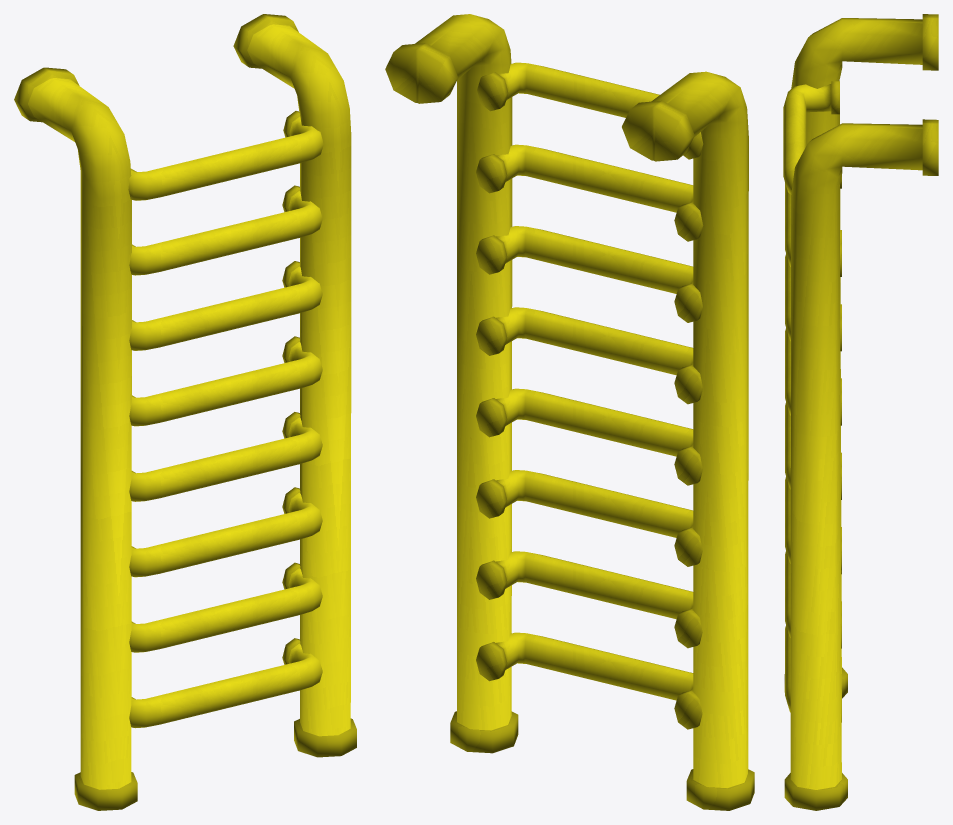
File: Ladder (Captain Toad).dae
3 views of the same model, side by side, from view 1: azimuth 30°, elevation 25°; view 2: azimuth 150°, elevation 25°; view 3: azimuth 270°, elevation 25° (orthographic). The views are drawn at different scales.
Parts seen in each view (by area): view 1: Vert.002; view 2: Vert.002; view 3: Vert.002.
Part boxes in pixels (x1,y1,x2,y2): Vert.002: (14, 14, 356, 810); Vert.002: (385, 14, 754, 810); Vert.002: (783, 14, 938, 810).
Size of the model in its own units: 5.11 by 2.51 by 12.
1 material, 1 textured.
